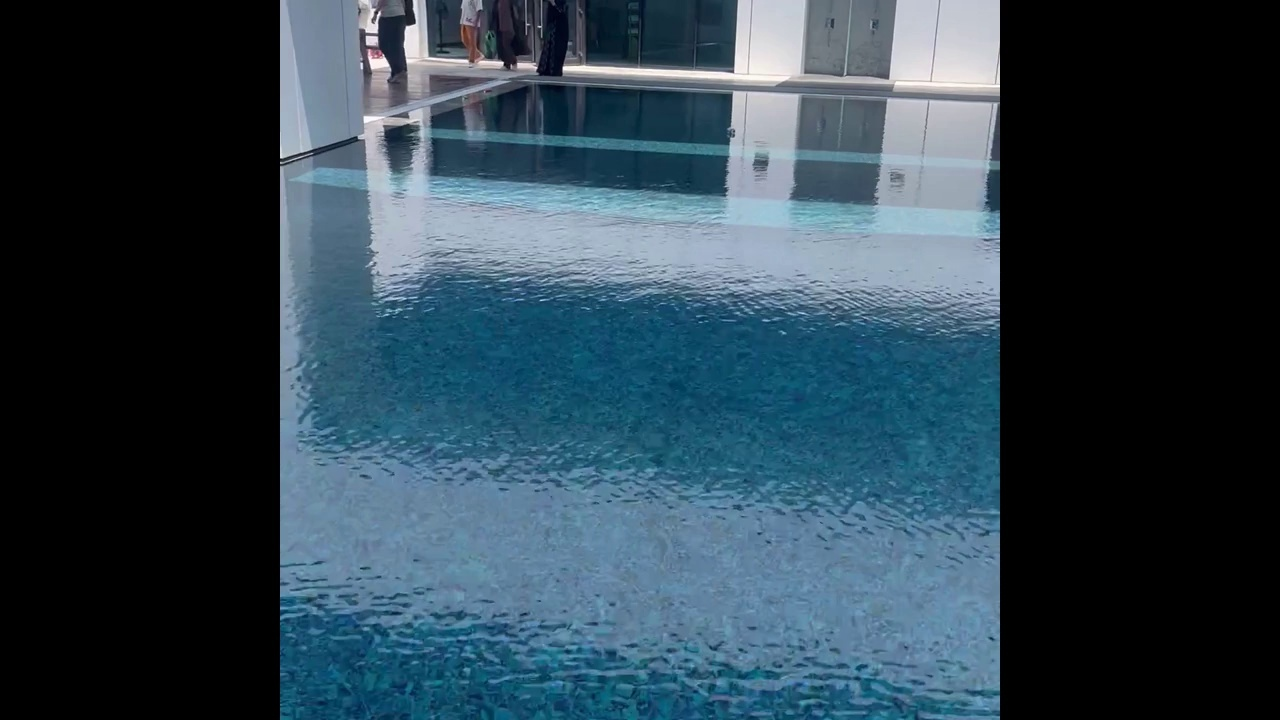debris: (460, 91, 476, 103), (724, 125, 736, 137), (480, 87, 494, 97)
